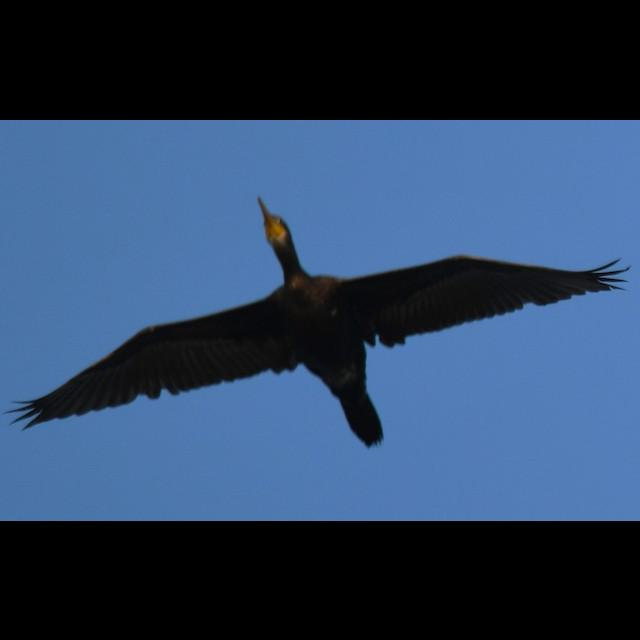cormorant: (20, 195, 620, 442)
